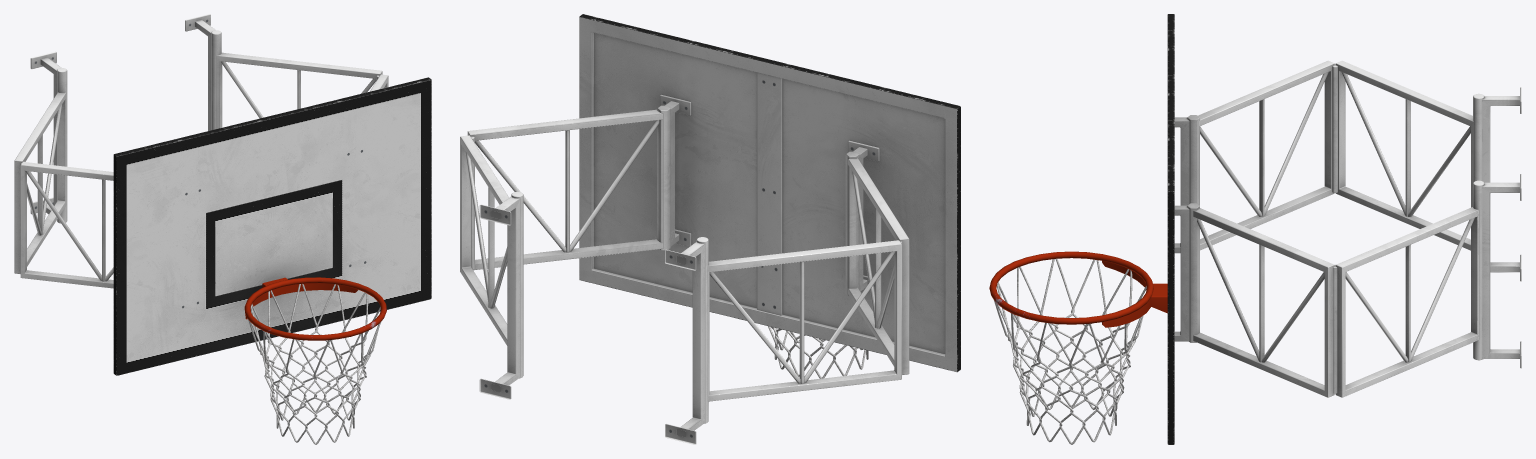
File: Basketball_Hoop.FBX
The picture shows the model from 3 angles, left to right: view 1: azimuth 30°, elevation 25°; view 2: azimuth 150°, elevation 25°; view 3: azimuth 270°, elevation 25°; orthographic projection. The views are drawn at different scales.
Visible parts, largest first — view 1: Basketball_Hoop; view 2: Basketball_Hoop; view 3: Basketball_Hoop.
Part boxes in pixels (x1,y1,x2,y2): Basketball_Hoop: (14, 14, 431, 444); Basketball_Hoop: (460, 14, 960, 444); Basketball_Hoop: (989, 14, 1521, 444).
Size of the model in its own units: 140 by 102 by 152.
